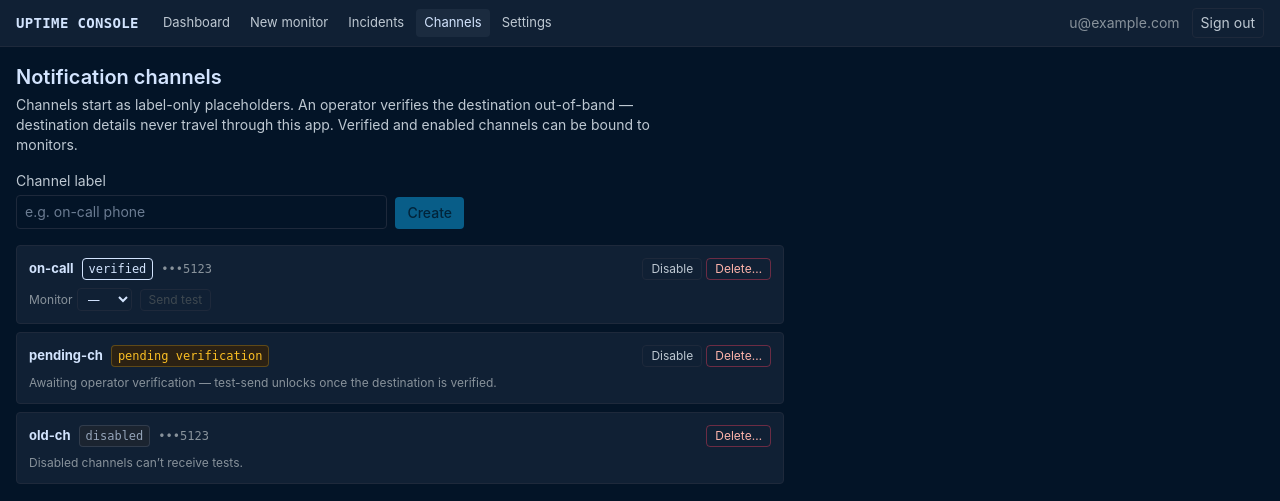
Test: channels page › 409 explains the channel isn't bound; 429 reports rate limiting
Select "site" in the dropdown labelled "Monitor" at (104, 300), box [77, 288, 132, 311]
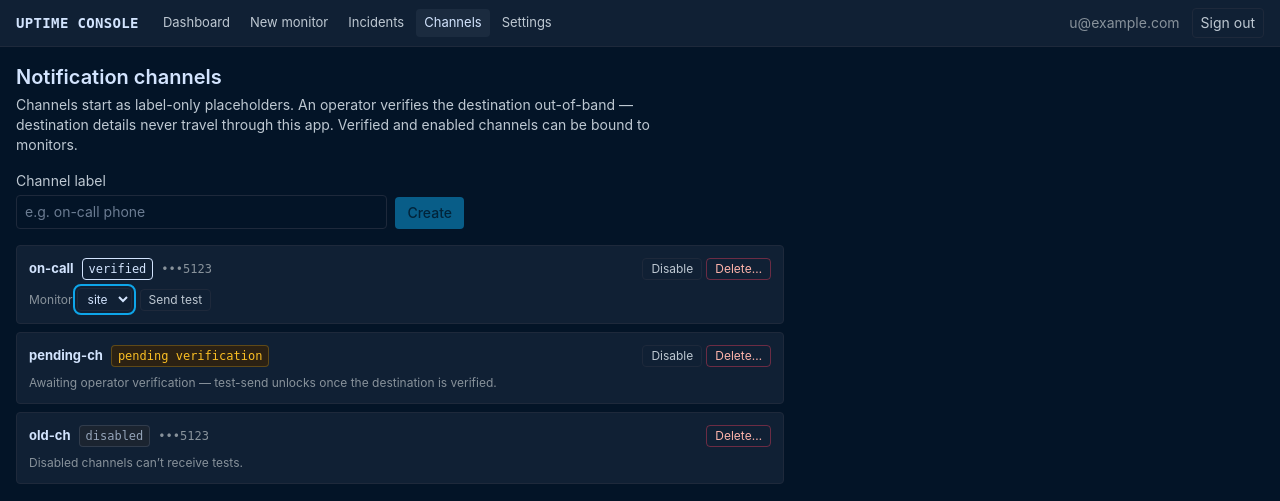
Click the button "Send test".
click(175, 300)  # box [140, 288, 211, 310]
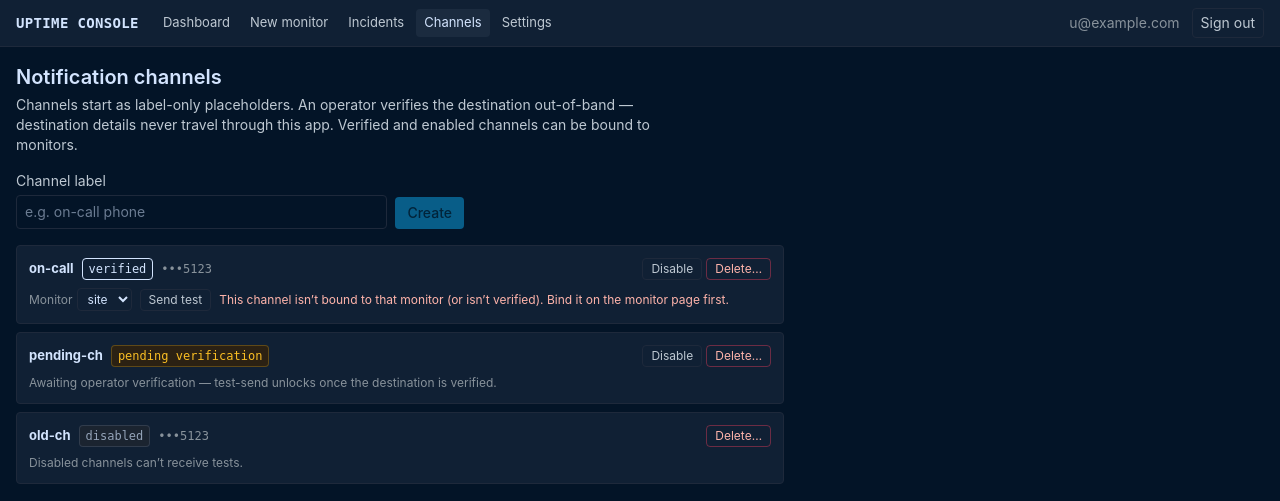
Now the text "isn’t bound" is shown, box [219, 292, 729, 306]
Select "site" in the dropdown labelled "Monitor" at (104, 300), box [77, 288, 132, 311]
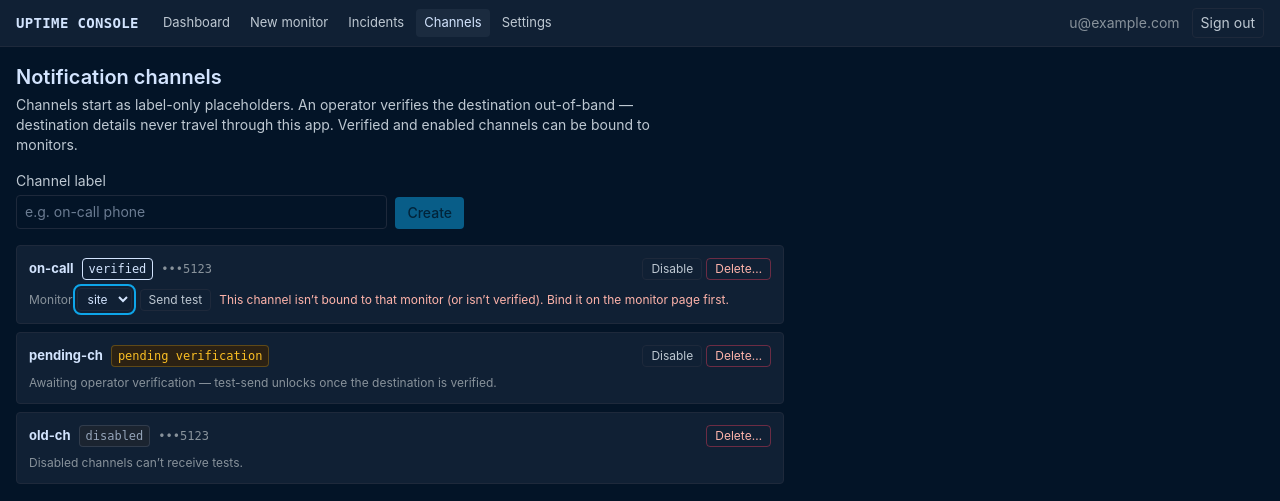
Click the button "Send test".
click(175, 300)  # box [140, 288, 211, 310]
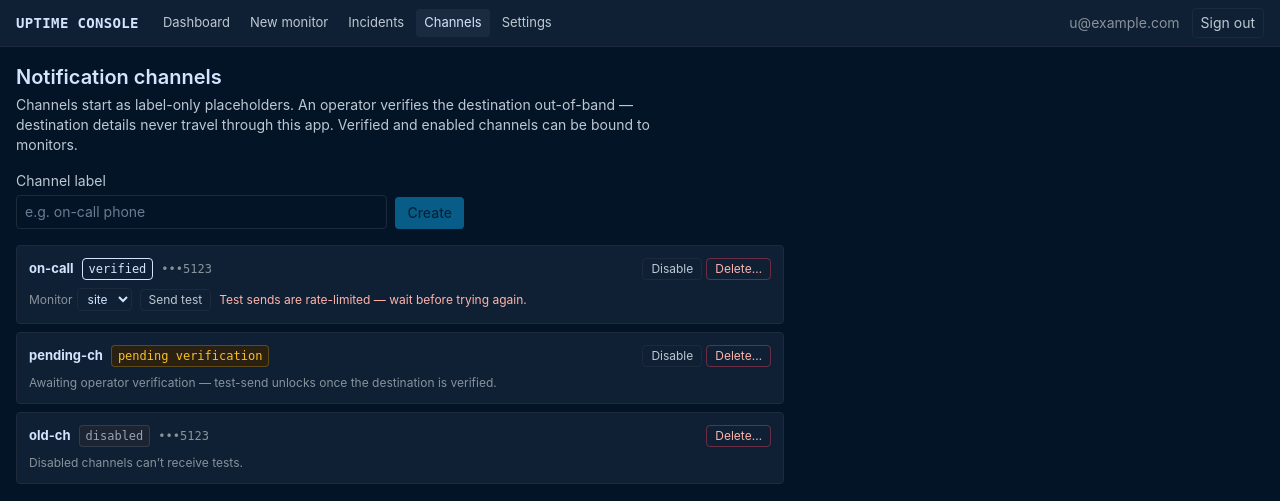
Now the text "Test sends are rate-limited — wait before trying again." is shown, box [219, 292, 527, 308]
